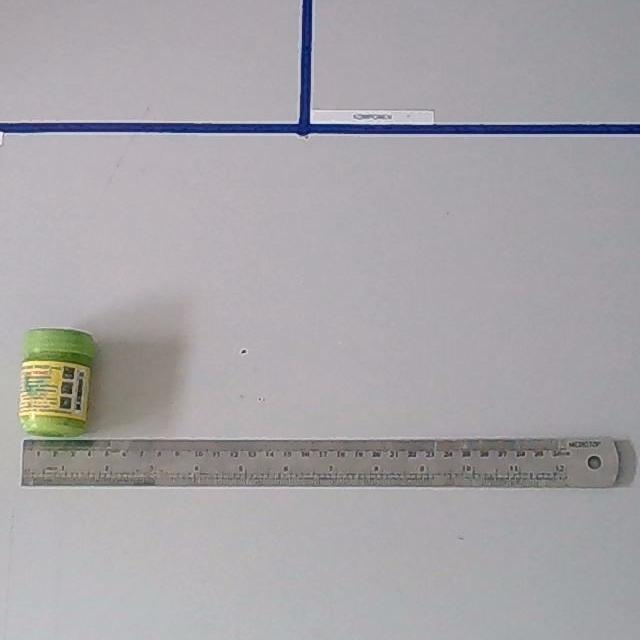ruler: (18, 438, 620, 490)
small: (22, 328, 98, 438)
